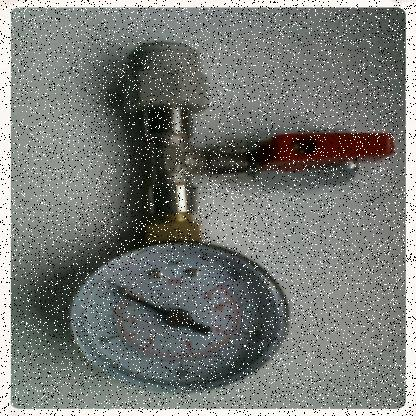needle: (120, 292, 167, 316)
